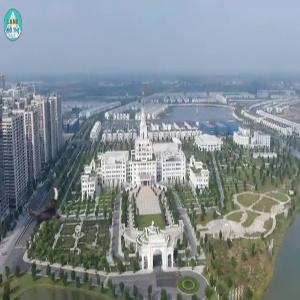drone: (22, 188, 72, 238)
